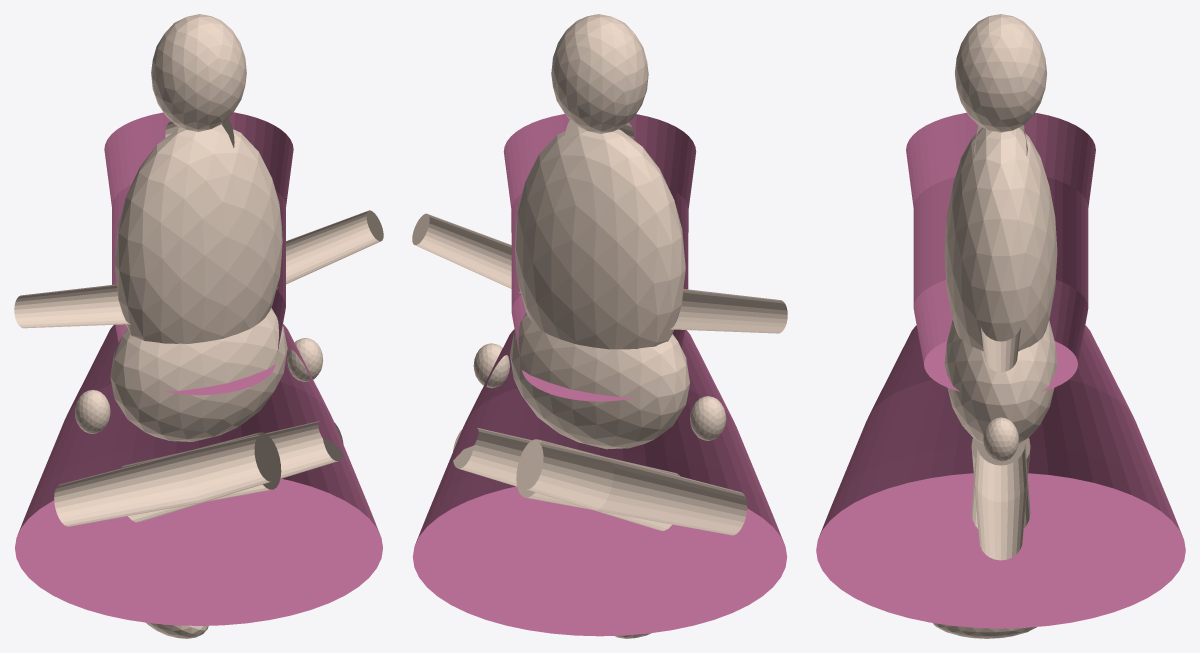
The model's file is femenino-vestido.glb.
3 views of the same model, side by side, from view 1: azimuth 30°, elevation 25°; view 2: azimuth 150°, elevation 25°; view 3: azimuth 270°, elevation 25° (orthographic).
Visible parts, largest first — view 1: Prenda, Avatar0, Avatar1, Avatar3, Avatar4, Avatar8, Avatar6, Avatar10, Avatar7, Avatar11, Avatar5; view 2: Prenda, Avatar0, Avatar1, Avatar3, Avatar4, Avatar8, Avatar6, Avatar10, Avatar7, Avatar11; view 3: Prenda, Avatar0, Avatar3, Avatar1, Avatar8, Avatar4, Avatar11, Avatar10, Avatar9.
Part boxes in pixels (x1,y1,x2,y2): Prenda: (15,112,382,625); Avatar0: (114,124,282,343); Avatar1: (110,308,287,441); Avatar3: (151,14,246,131); Avatar4: (54,432,281,526); Avatar8: (120,421,343,522); Avatar6: (14,284,130,328); Avatar10: (277,210,383,288); Avatar7: (74,389,110,433); Avatar11: (287,338,323,381); Avatar5: (146,622,208,638); Prenda: (412,114,787,636); Avatar0: (515,126,685,349); Avatar1: (510,313,689,449); Avatar3: (551,14,648,133); Avatar4: (516,439,747,535); Avatar8: (453,427,679,530); Avatar6: (670,289,787,333); Avatar10: (412,213,520,292); Avatar7: (690,396,726,440); Avatar11: (473,343,509,388); Prenda: (816,112,1185,628); Avatar0: (944,127,1057,351); Avatar3: (954,14,1047,132); Avatar1: (944,320,1057,444); Avatar8: (971,438,1030,560); Avatar4: (971,445,1030,528); Avatar11: (983,417,1018,461); Avatar10: (981,327,1020,372); Avatar9: (933,623,1036,638).
Size of the model in its own units: 1.61 by 2.58 by 1.44.
